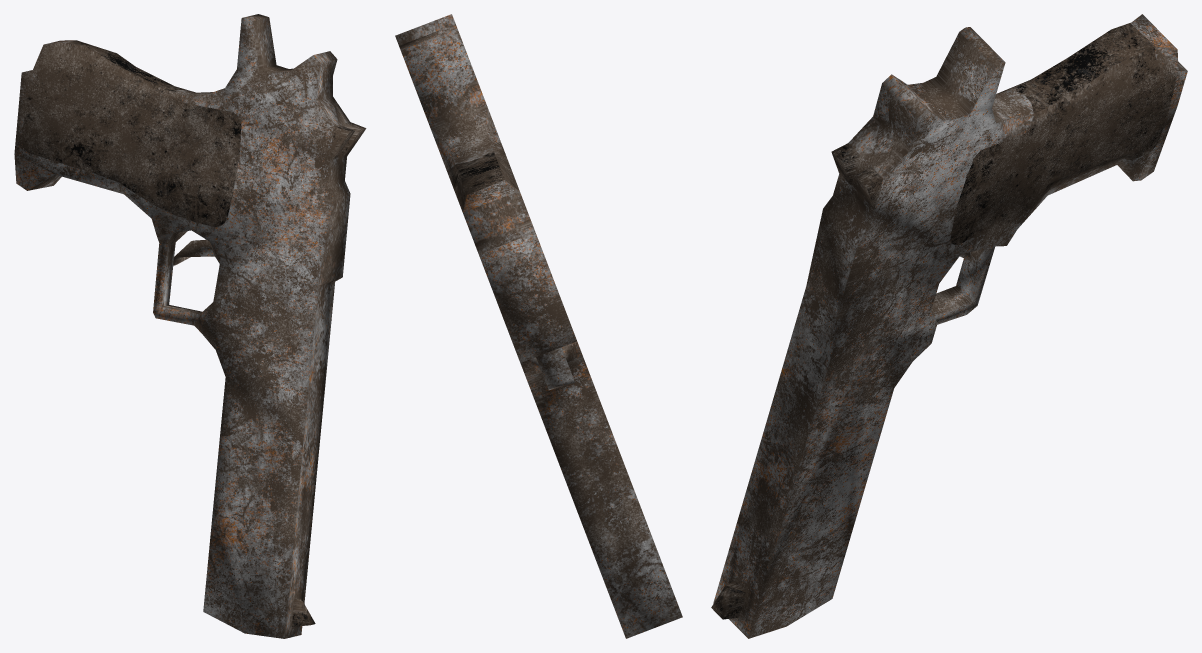
Rendered from Anim_disparar_pistola_objetos.0015.obj.
3 renders of one model, left to right at view 1: azimuth 30°, elevation 25°; view 2: azimuth 150°, elevation 25°; view 3: azimuth 270°, elevation 25°, orthographic. The views are drawn at different scales.
Parts seen in each view (by area): view 1: Pistola1; view 2: Pistola1; view 3: Pistola1.
Part boxes in pixels (x1=…): Pistola1: x1=14, y1=14, x2=366, y2=638; Pistola1: x1=395, y1=14, x2=682, y2=638; Pistola1: x1=711, y1=14, x2=1187, y2=638.
Bounding box in the file's own units: 0.7772 × 1.66 × 1.13.
Materials: 1 (1 with a texture image).
